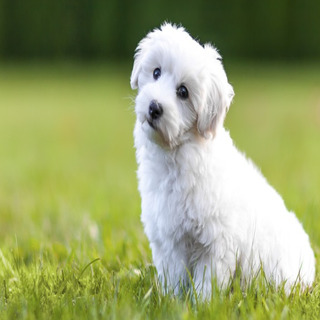perro: (114, 16, 250, 166)
